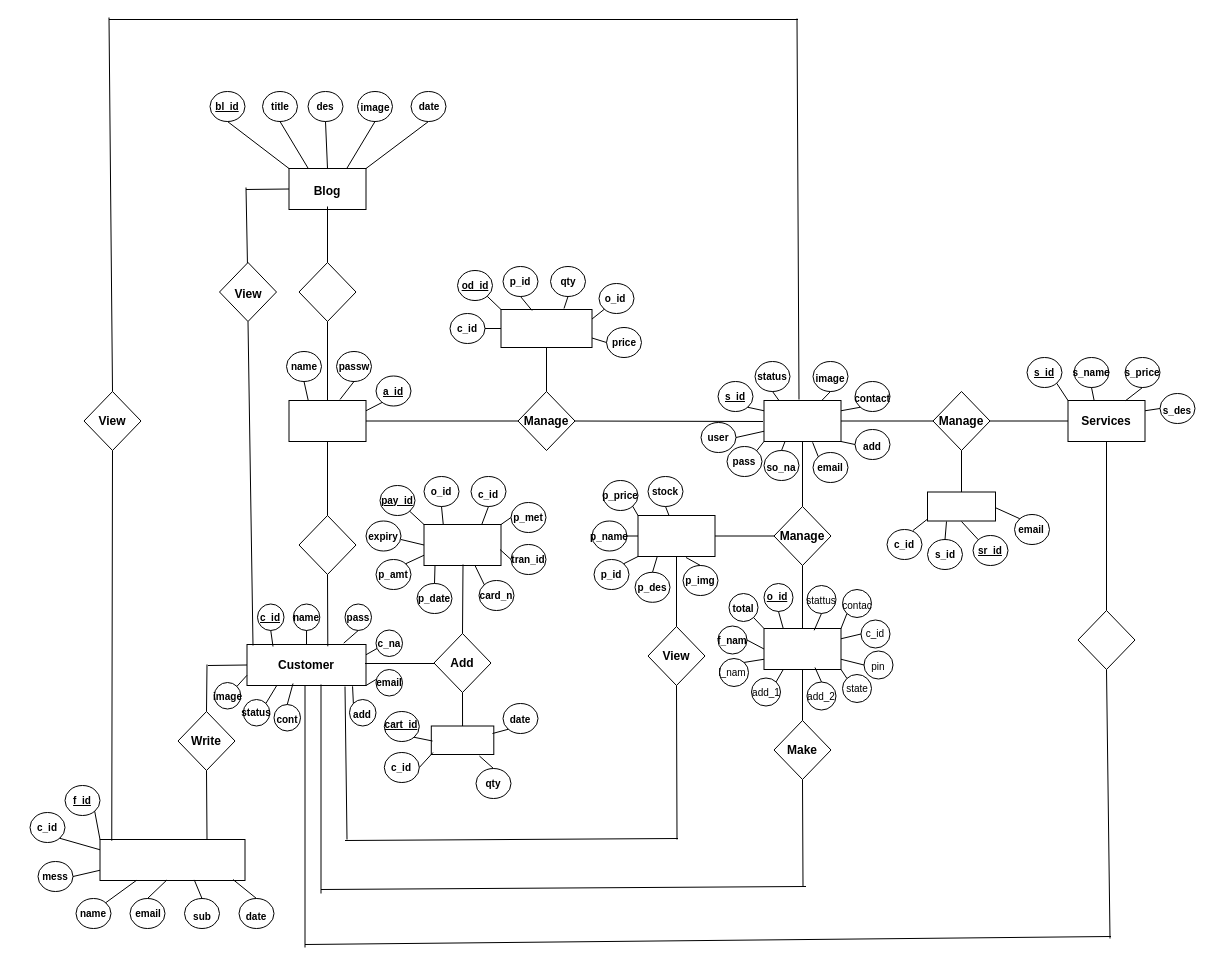
Some shapes in this 1224 by 966 pixel diagram are drawn without their labels. Here are the shapes that lost their labels. From the top down, the centre of each, then its label:
At (x=327, y=292): "Upload".
At (x=546, y=328): "Order Details".
At (x=327, y=421): "Admin".
At (x=802, y=421): "Shopowner".
At (x=961, y=506): "Requested Services".
At (x=327, y=544): "Handle".
At (x=462, y=545): "Payment".
At (x=676, y=535): "Products".
At (x=802, y=649): "Order".
At (x=1106, y=640): "Request".
At (x=462, y=739): "Cart".
At (x=172, y=859): "Feedback".
